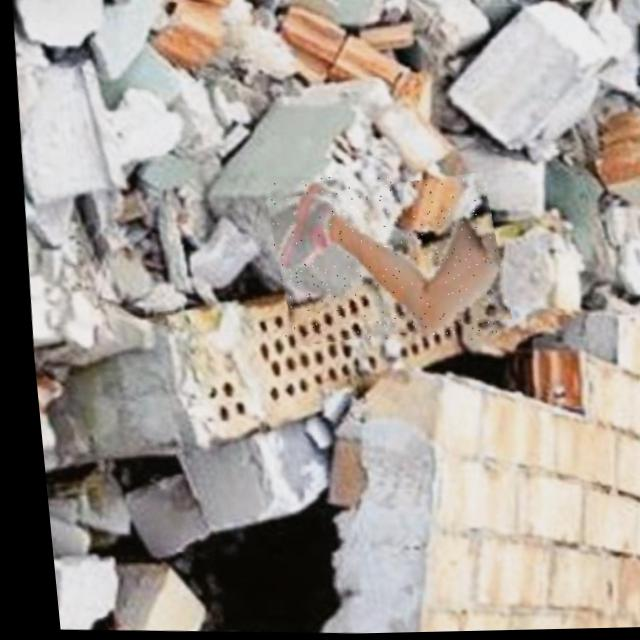Person in Rubble: (259, 173, 506, 347)
